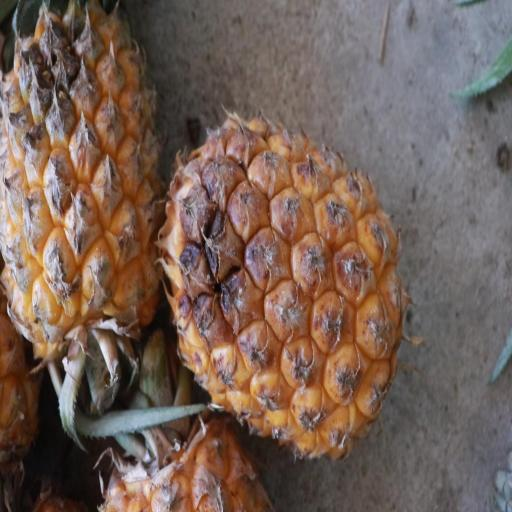Pineapple - v8 v1: (161, 104, 415, 458), (0, 2, 162, 395)
